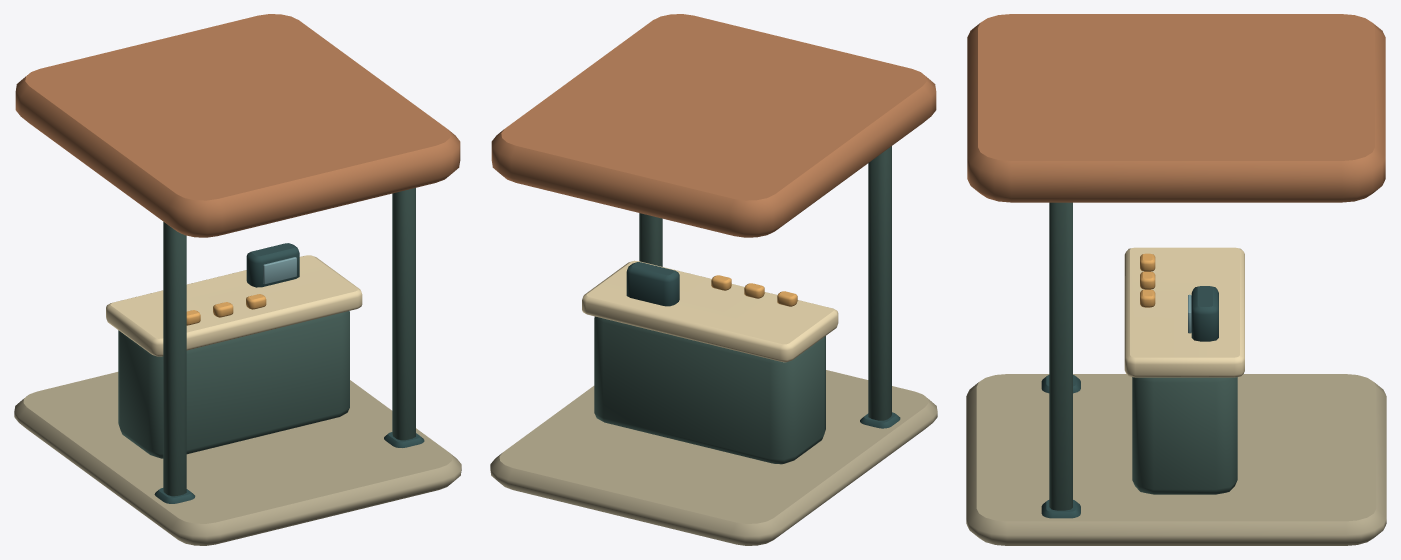
Rendered from wilderness_rent_2.glb.
3 renders of one model, left to right at view 1: azimuth 30°, elevation 25°; view 2: azimuth 150°, elevation 25°; view 3: azimuth 270°, elevation 25°, orthographic. The views are drawn at different scales.
Visible parts, largest first — view 1: WildernessRent2; view 2: WildernessRent2; view 3: WildernessRent2.
Part boxes in pixels (x1,y1,x2,y2): WildernessRent2: (14,14,461,545); WildernessRent2: (490,14,937,545); WildernessRent2: (966,14,1386,545).
Size of the model in its own units: 2.18 by 2.51 by 2.48.
